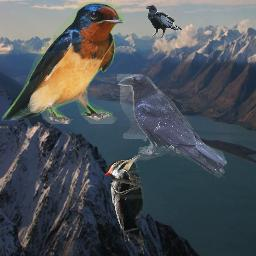Crow: (117, 74, 227, 178), (145, 5, 182, 38)
Swallow: (1, 2, 123, 124)
Woodpecker: (104, 155, 144, 256)
